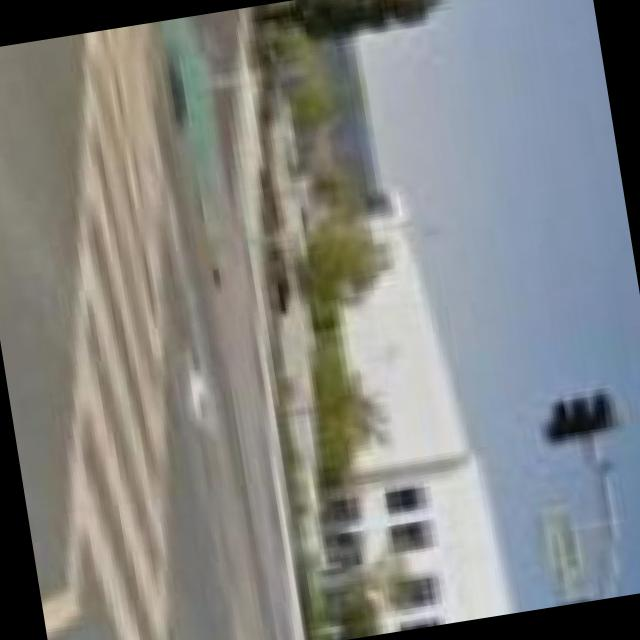zebra: (48, 24, 184, 640)
